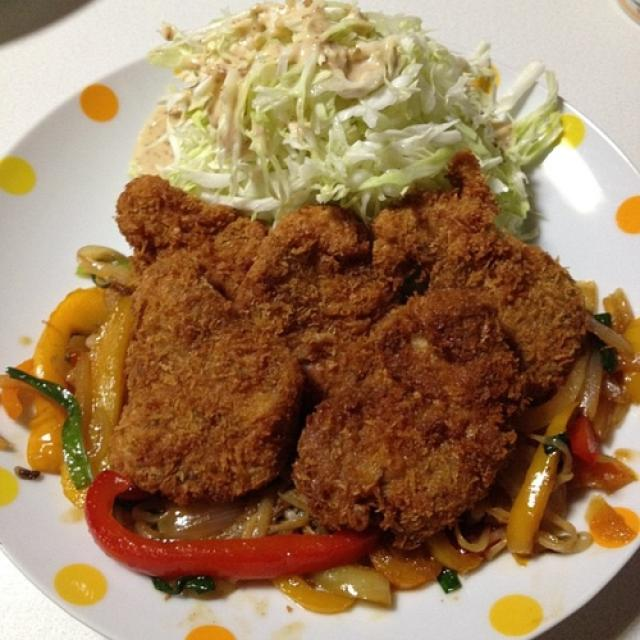牛肉菜式: (5, 8, 631, 618)
